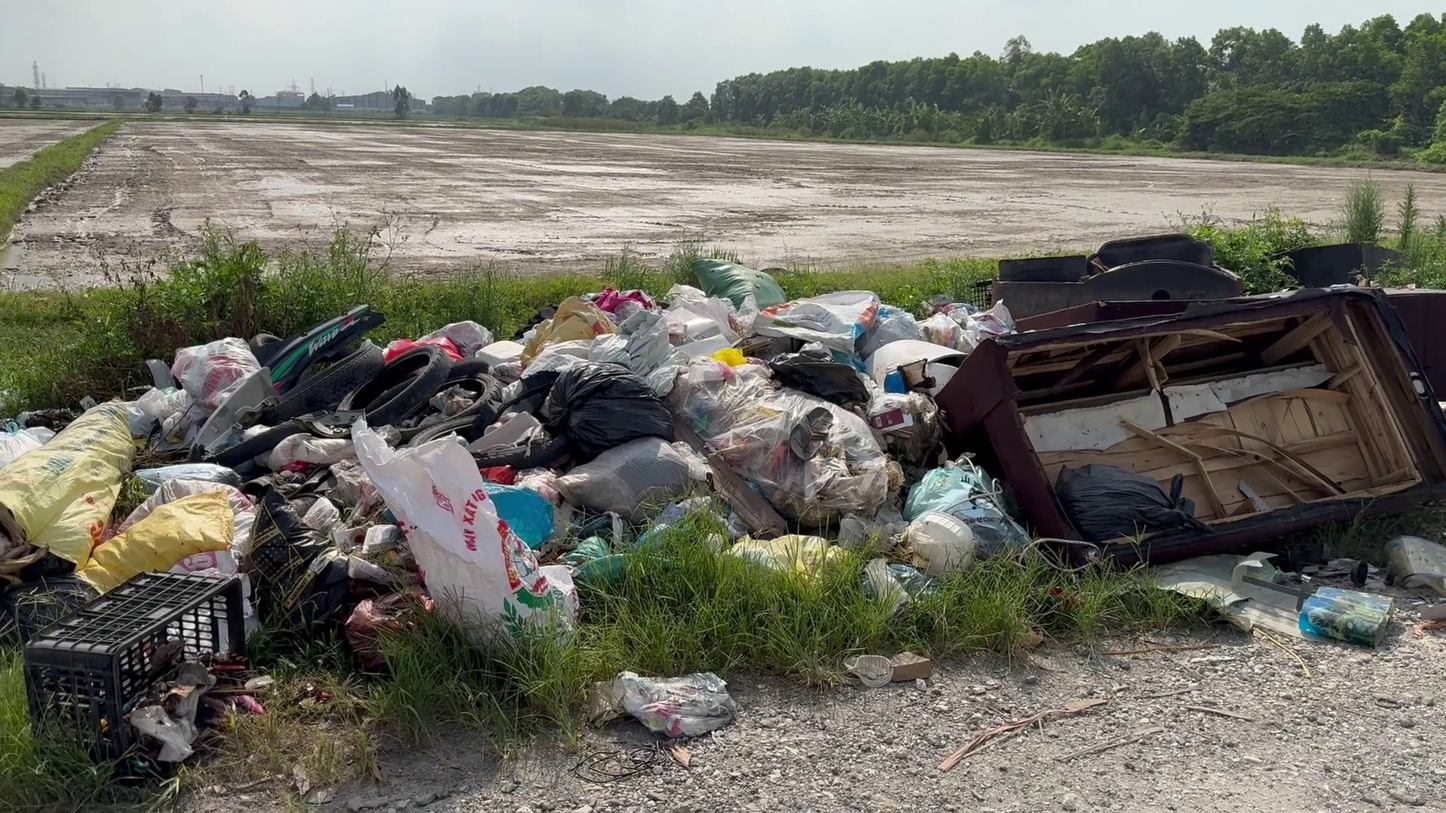garbage: (22, 567, 288, 804)
